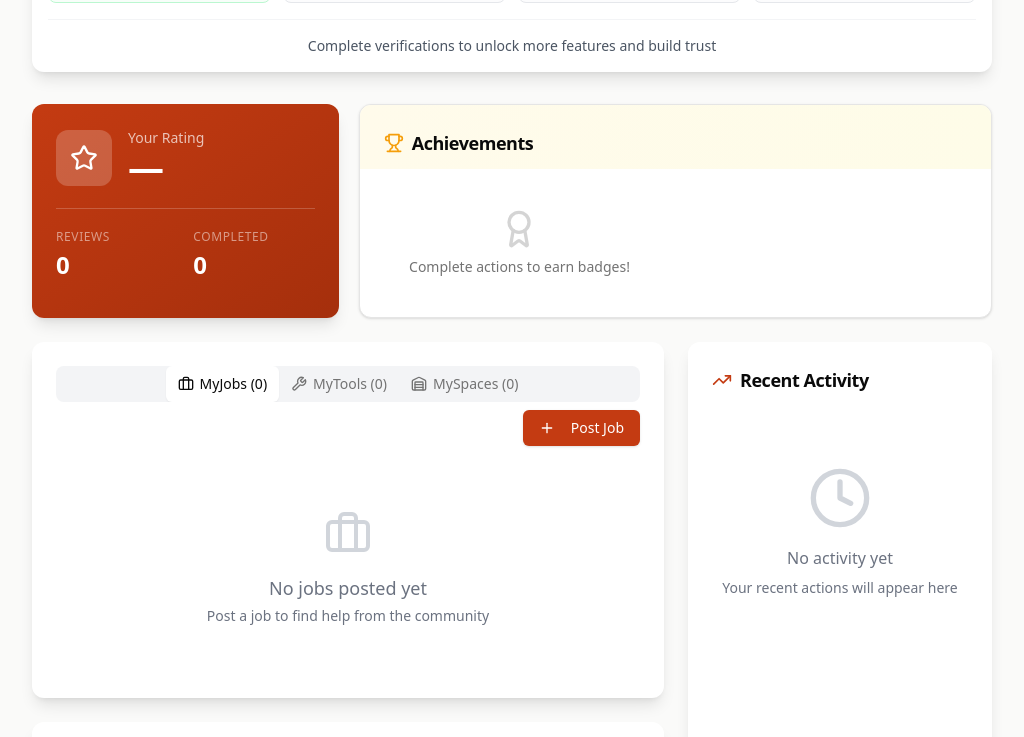
it: Profile › logged in › switches between tools and spaces tabs
(page scrolled)
Expected: the tab "My Tools (0)" is shown, x1=279 y1=366 x2=399 y2=402
// Click spaces tab
Click the tab "My Spaces (0)". click: (465, 384)
box: x1=399 y1=366 x2=530 y2=402
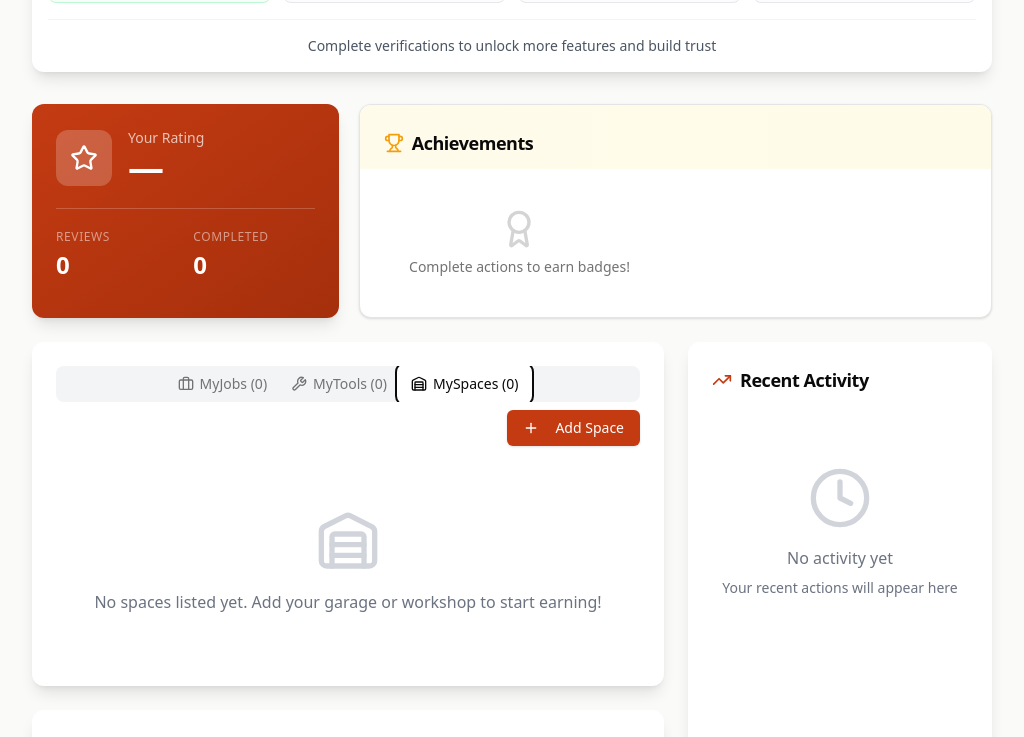
Result: the button "Add Space" is shown at x1=507 y1=410 x2=640 y2=446
// Click tools tab
Click the tab "My Tools (0)". click: (339, 384)
box: x1=279 y1=366 x2=399 y2=402
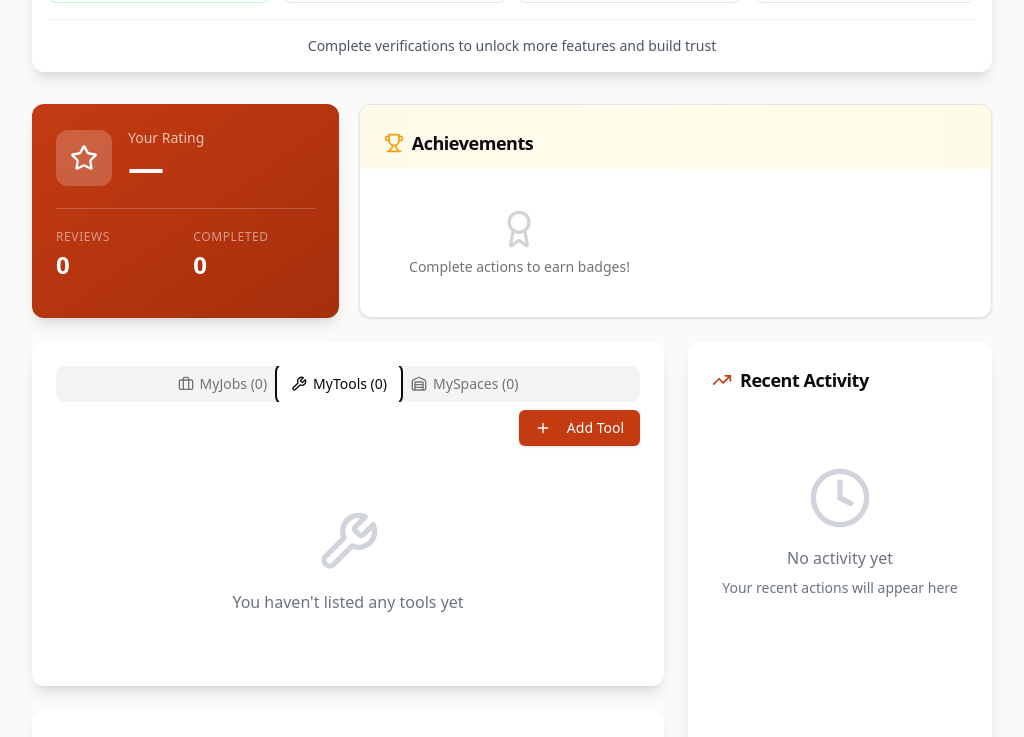
Result: the button "Add Tool" is shown at x1=519 y1=410 x2=640 y2=446
